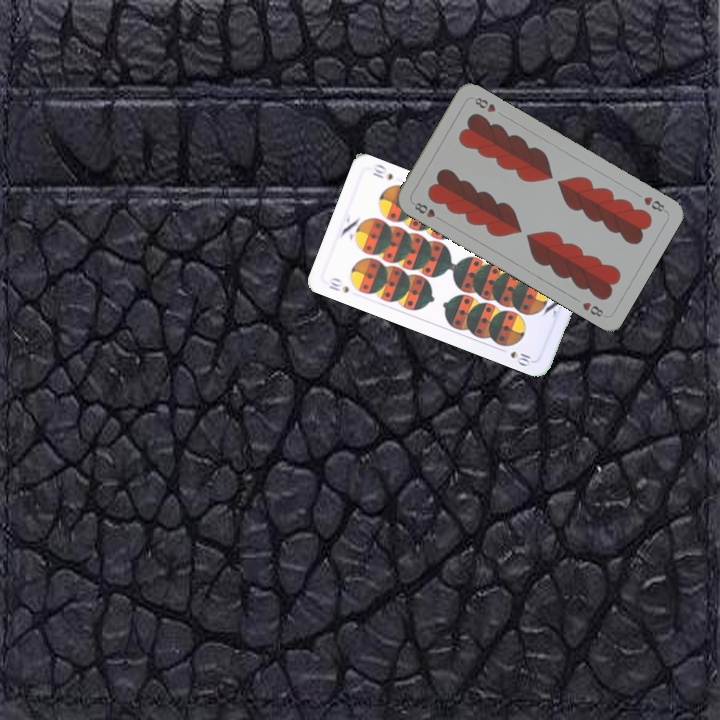H8: (639, 192, 669, 215), (410, 198, 438, 220)
S10: (325, 274, 352, 296)
